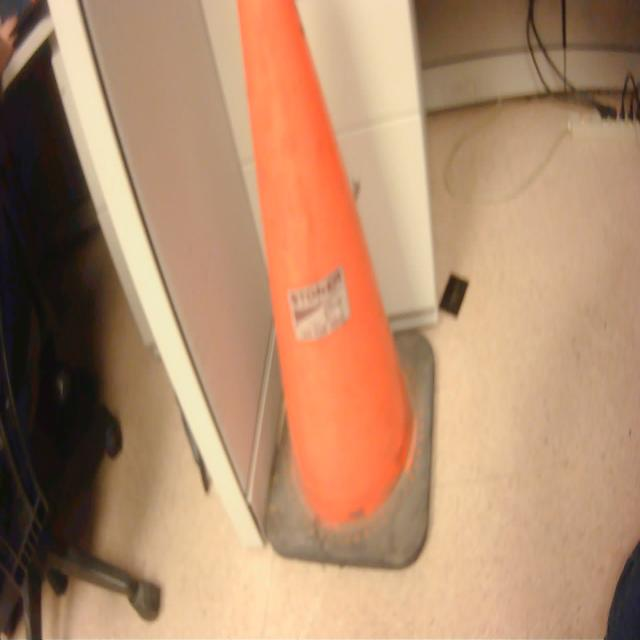traffic cone: (233, 1, 445, 581)
